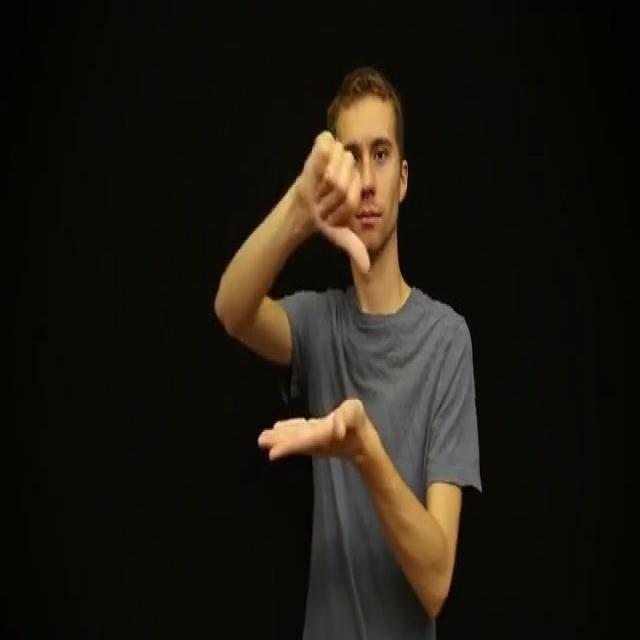sauce: (252, 121, 376, 482)
